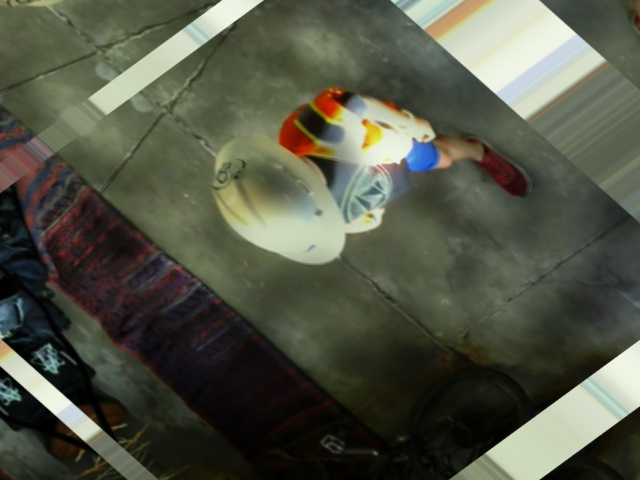eight: (201, 153, 254, 195)
